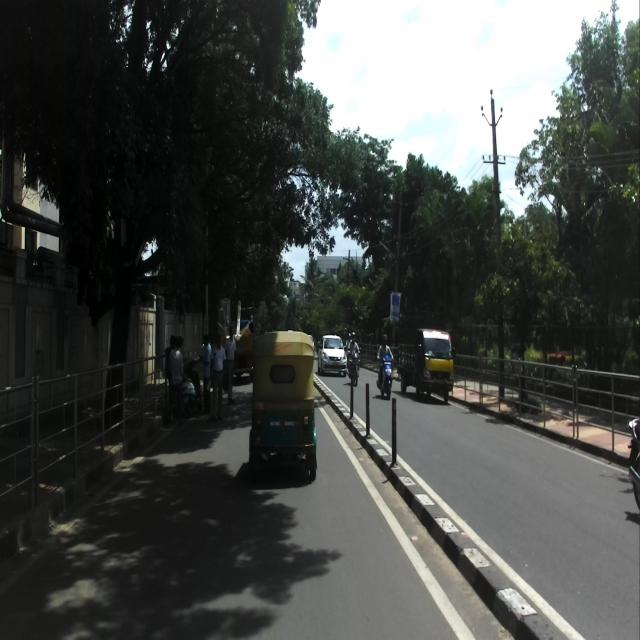autorickshaw: (248, 330, 317, 482)
car: (318, 333, 348, 378)
truck: (397, 326, 454, 402)
